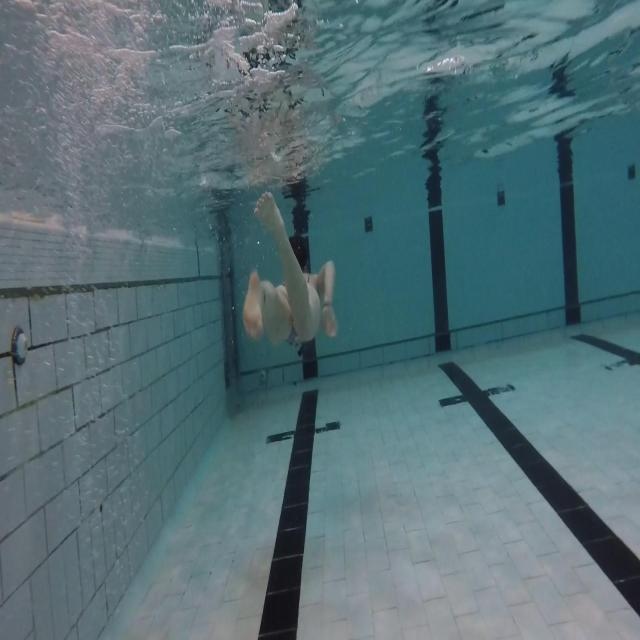human: (242, 190, 338, 348)
